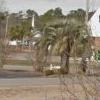Palm tree: (34, 16, 78, 75)
